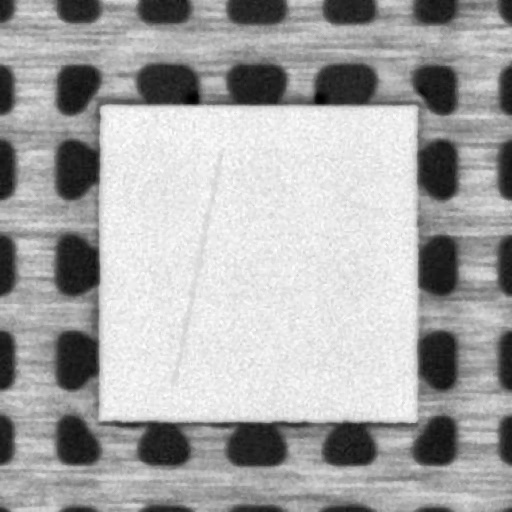DIE_CRACK: (173, 148, 220, 382)
